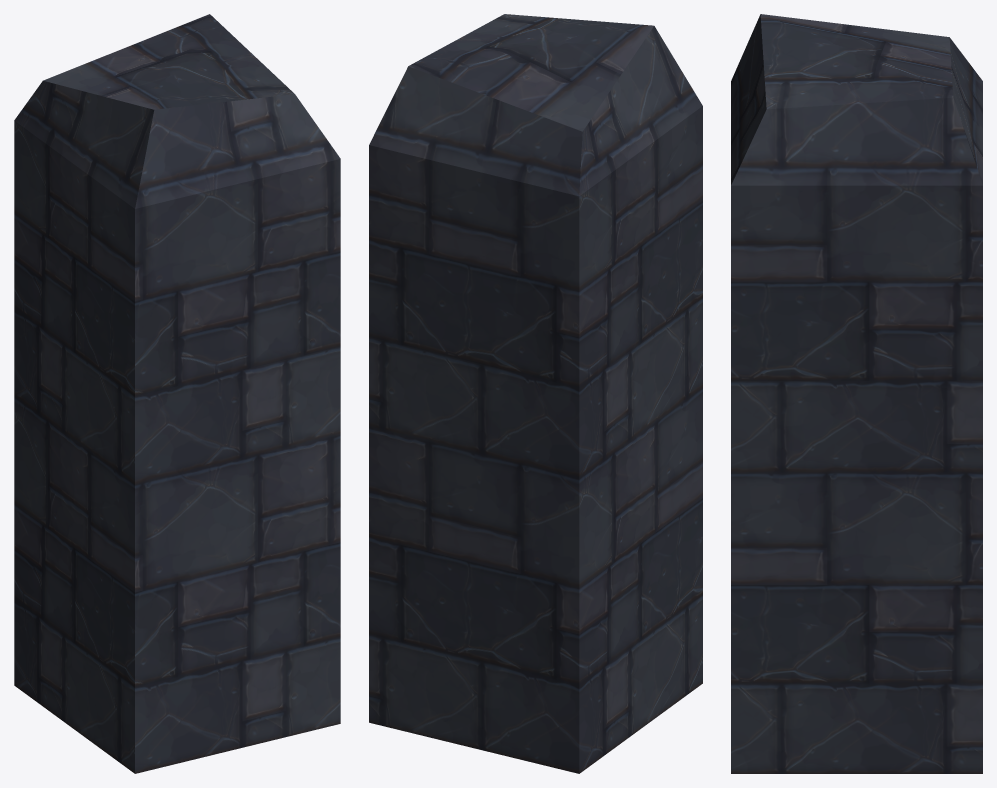
File: Ruins_Pillar_003.fbx
3 views of the same model, side by side, from view 1: azimuth 30°, elevation 25°; view 2: azimuth 150°, elevation 25°; view 3: azimuth 270°, elevation 25° (orthographic). The views are drawn at different scales.
Visible parts, largest first — view 1: Ruins_Pillar_003; view 2: Ruins_Pillar_003; view 3: Ruins_Pillar_003.
Part boxes in pixels (box(x1,y1,x2,y2)): Ruins_Pillar_003: box(14, 14, 340, 773); Ruins_Pillar_003: box(369, 14, 702, 773); Ruins_Pillar_003: box(731, 14, 982, 773).
Bounding box in the file's own units: 1 × 3 × 1.02.
1 material, 1 textured.
